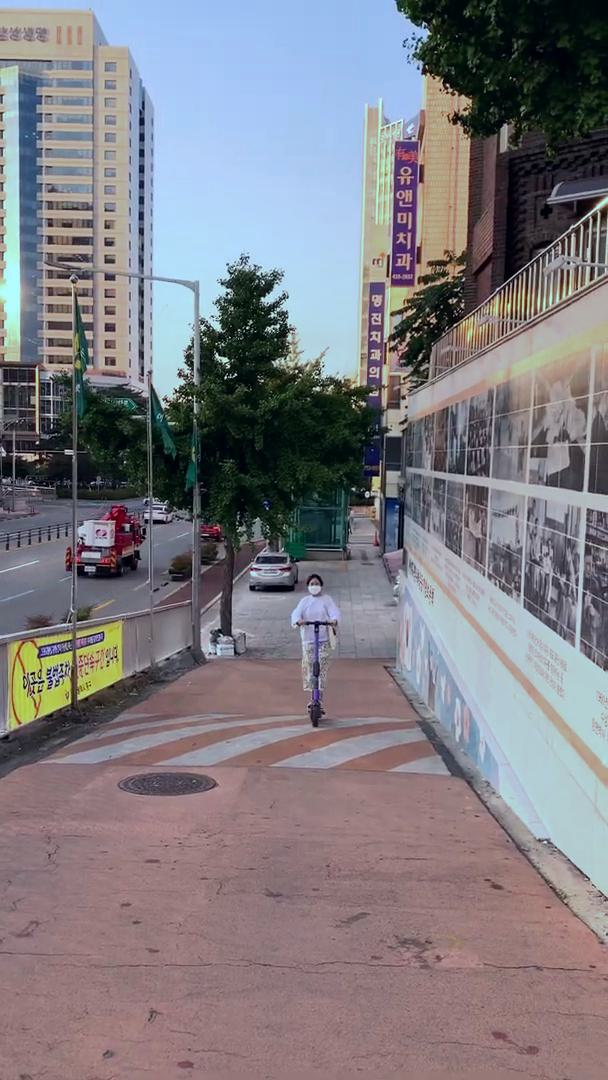nonhelmet: (289, 572, 344, 731)
